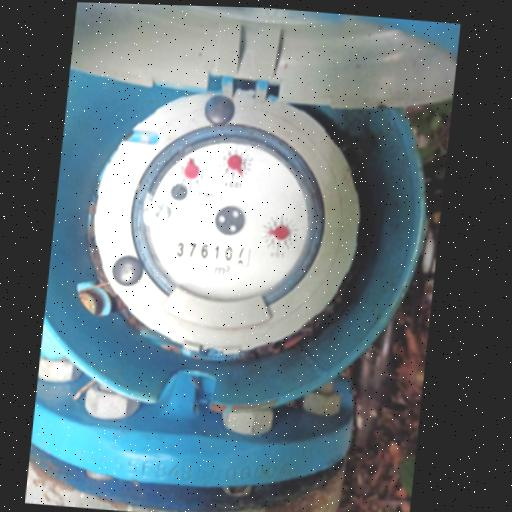0: (224, 247, 238, 265)
1: (211, 244, 224, 263)
3: (175, 242, 189, 260)
6: (200, 244, 212, 263)
7: (187, 242, 200, 261), (236, 247, 249, 266)
border_water_meter_number: (174, 240, 252, 266)
